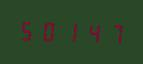five: (18, 18, 38, 42)
four: (81, 20, 101, 45)
one: (60, 19, 80, 44)
seven: (102, 21, 122, 45)
zero: (39, 18, 59, 43)
